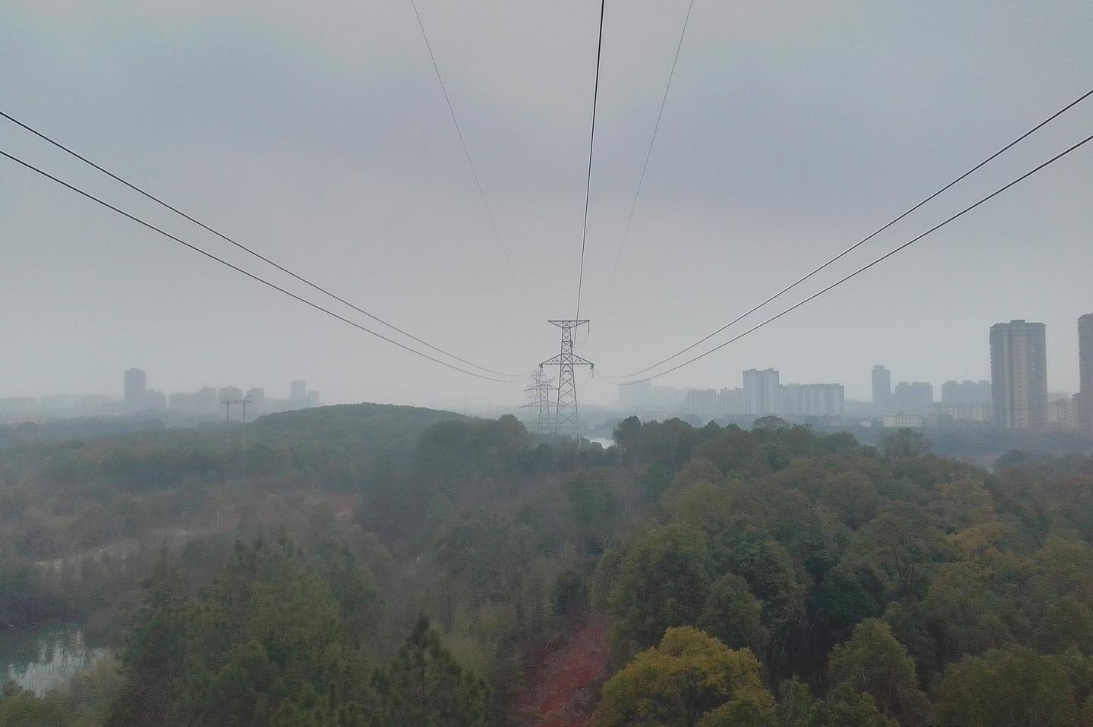山间云雾: (0, 292, 1093, 476)
